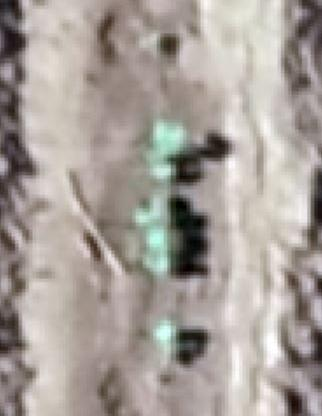cotton: (156, 126, 187, 153), (149, 232, 172, 268), (139, 209, 170, 229), (157, 320, 178, 349), (151, 159, 173, 180)
